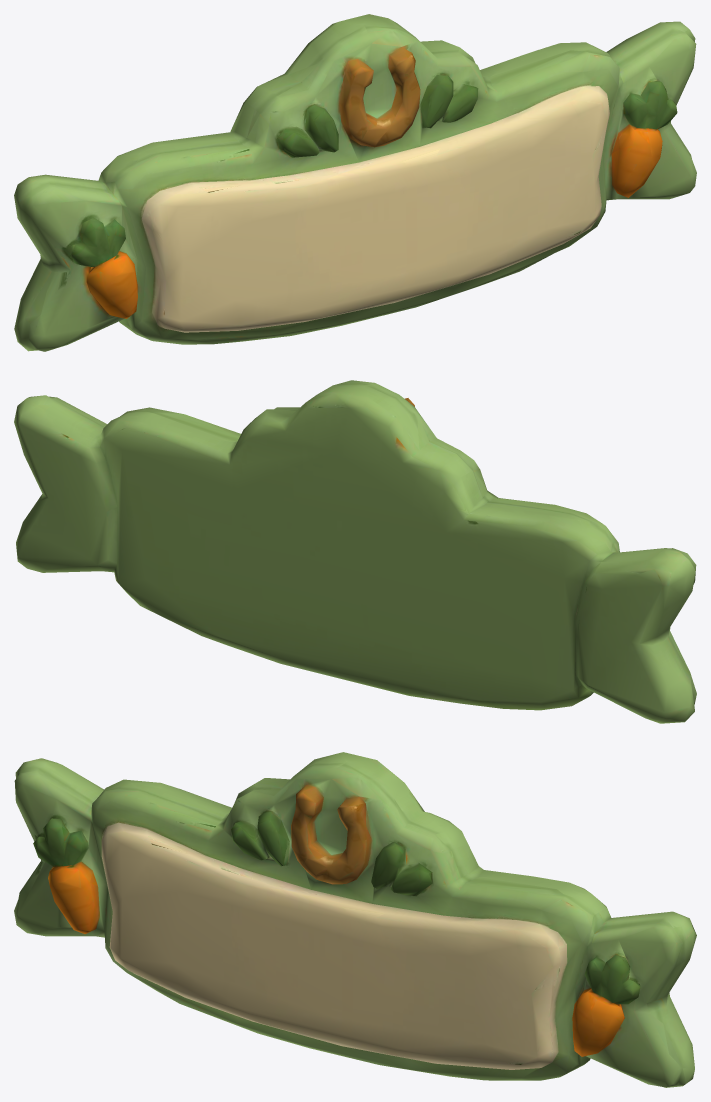
3 views of the same model, one above another, from view 1: azimuth 30°, elevation 25°; view 2: azimuth 150°, elevation 25°; view 3: azimuth 330°, elevation 25° (orthographic).
Visible parts, largest first — view 1: plate-mint; view 2: plate-mint; view 3: plate-mint.
Part boxes in pixels (x1,y1,x2,y2): plate-mint: (14, 14, 696, 351); plate-mint: (14, 380, 696, 723); plate-mint: (14, 752, 696, 1087).
Bounding box in the file's own units: 1.2 × 0.4904 × 0.1436.
Materials: 1 (1 with a texture image).
